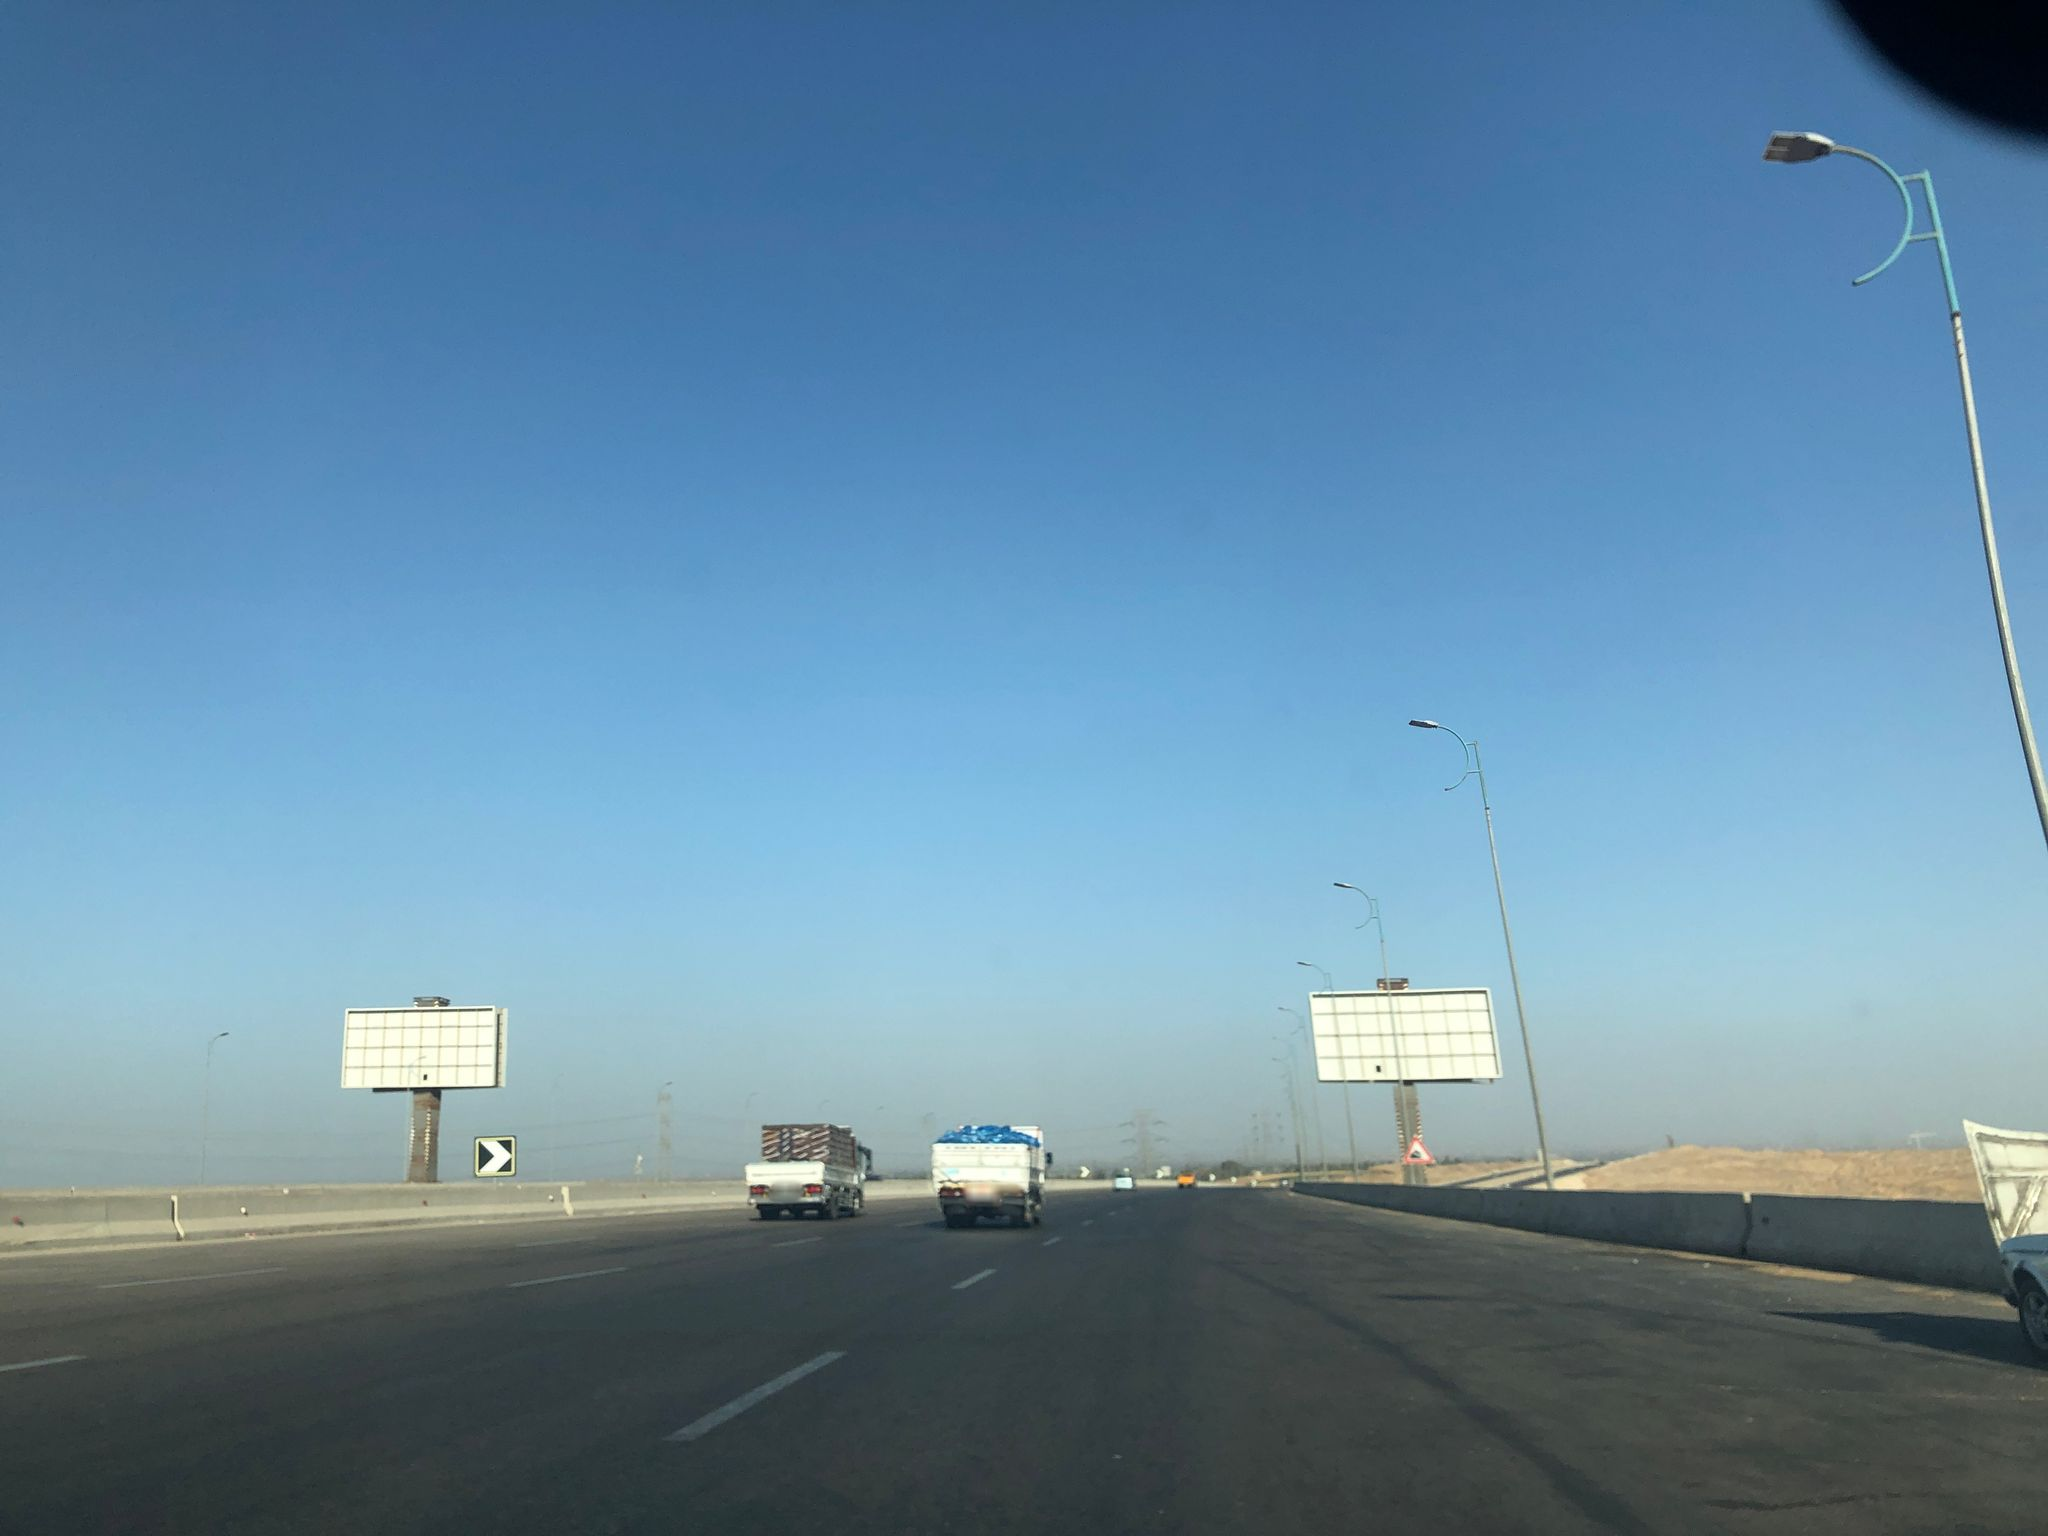truck: (927, 1121, 1055, 1228), (743, 1121, 872, 1218)
